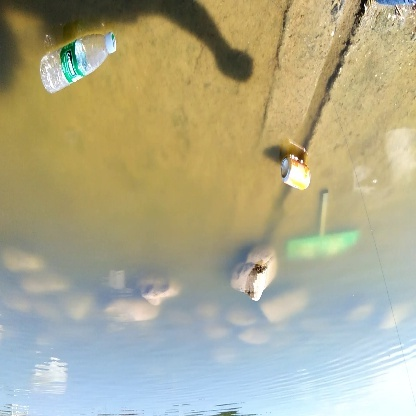bottle: (35, 27, 122, 99), (275, 150, 317, 189)
